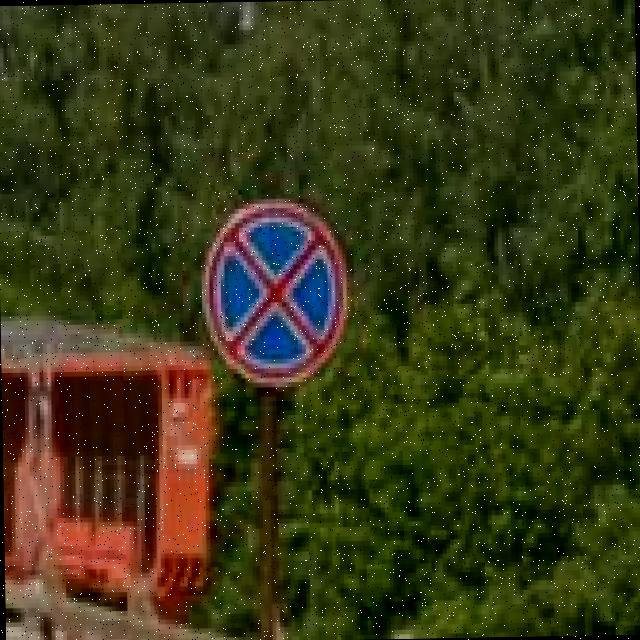Zakaz zatrzymywania sie: (200, 198, 348, 388)
